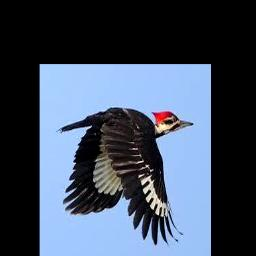Woodpecker: (55, 106, 193, 245)
